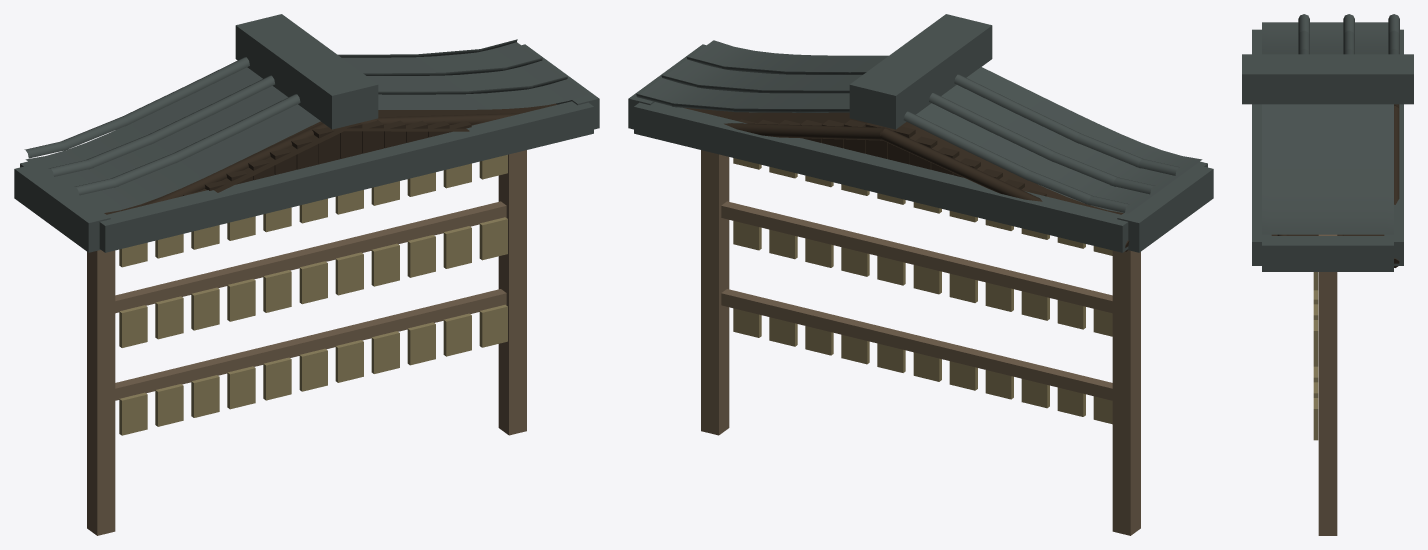
The model's file is ema.glb.
The picture shows the model from 3 angles, left to right: view 1: azimuth 30°, elevation 25°; view 2: azimuth 150°, elevation 25°; view 3: azimuth 270°, elevation 25°; orthographic projection. The views are drawn at different scales.
Parts seen in each view (by area): view 1: roof, thatch, wood, darkwood; view 2: roof, wood, thatch, darkwood; view 3: roof, wood, thatch, darkwood.
Part boxes in pixels (left/top/right/bottom): roof: left=14, top=14, right=599, bottom=252; thatch: left=119, top=154, right=507, bottom=435; wood: left=87, top=150, right=526, bottom=535; darkwood: left=104, top=103, right=556, bottom=214; roof: left=628, top=14, right=1213, bottom=252; wood: left=701, top=150, right=1140, bottom=535; thatch: left=733, top=158, right=1112, bottom=424; darkwood: left=683, top=107, right=1129, bottom=251; roof: left=1242, top=14, right=1413, bottom=271; wood: left=1318, top=234, right=1337, bottom=535; thatch: left=1313, top=272, right=1318, bottom=440; darkwood: left=1271, top=104, right=1399, bottom=267.
Bounding box in the file's own units: 3.97 × 3.15 × 1.3.
